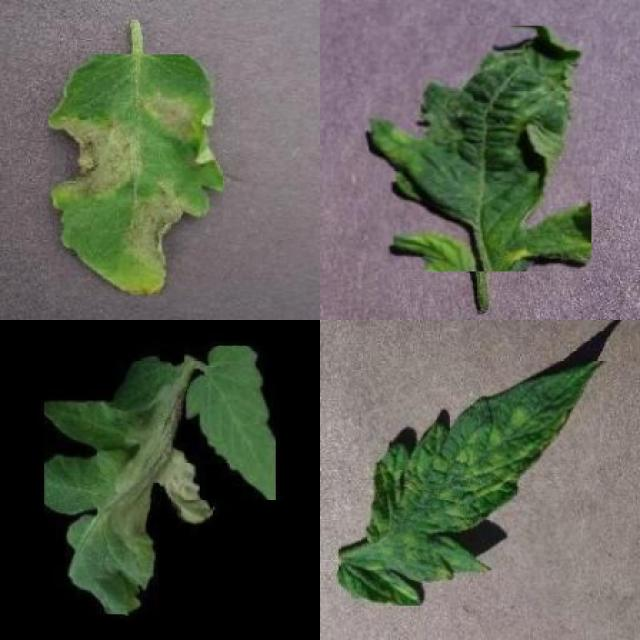Healthy: (184, 346, 276, 500)
Late Blight: (45, 360, 214, 614), (49, 54, 222, 296)
Leaf Mold: (339, 360, 605, 606)
Mosaic Virus: (369, 27, 591, 272)
